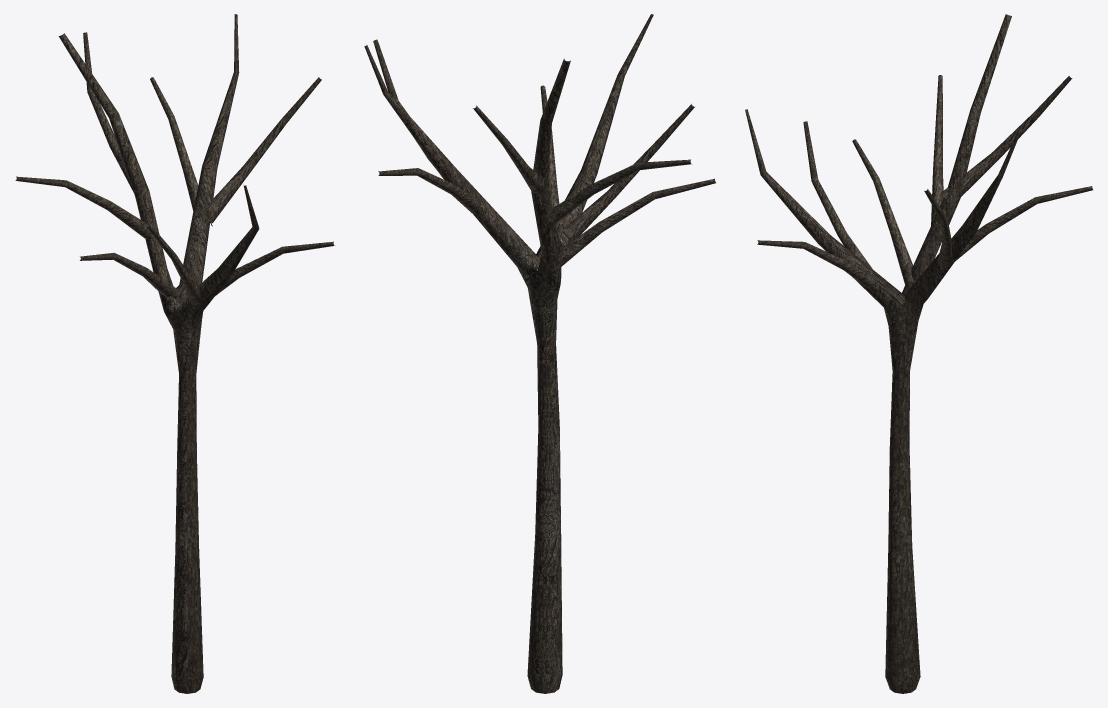
File: tree3.gltf
3 renders of one model, left to right at view 1: azimuth 30°, elevation 25°; view 2: azimuth 150°, elevation 25°; view 3: azimuth 270°, elevation 25°, orthographic. The views are drawn at different scales.
Visible parts, largest first — view 1: tak002; view 2: tak002; view 3: tak002.
Part boxes in pixels (left/top/right/bottom): tak002: left=15, top=14, right=334, bottom=693; tak002: left=364, top=14, right=715, bottom=693; tak002: left=745, top=14, right=1092, bottom=693.
Size of what is drawn, in the model's own units: 1.88 by 3.81 by 1.89.
Materials: 1 (1 with a texture image).
